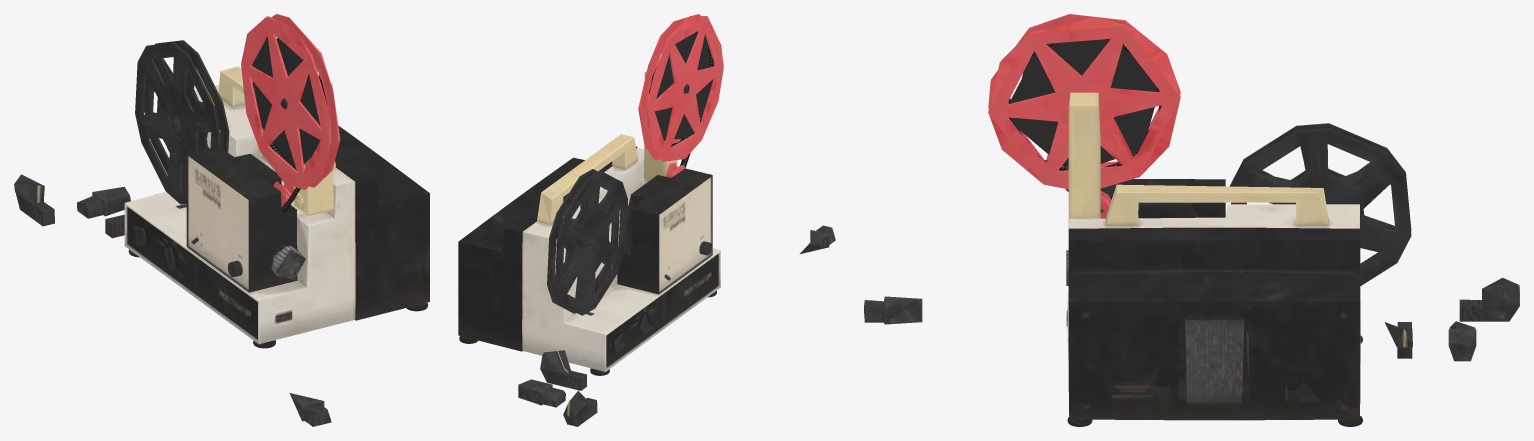
3 renders of one model, left to right at view 1: azimuth 30°, elevation 25°; view 2: azimuth 150°, elevation 25°; view 3: azimuth 270°, elevation 25°, orthographic. The views are drawn at different scales.
Parts seen in each view (by area): view 1: filmstrip_projector_8mm_takeup_holder; view 2: filmstrip_projector_8mm_takeup_holder; view 3: filmstrip_projector_8mm_takeup_holder.
Part boxes in pixels (x1=…): filmstrip_projector_8mm_takeup_holder: x1=14, y1=14, x2=429, y2=426; filmstrip_projector_8mm_takeup_holder: x1=458, y1=14, x2=835, y2=426; filmstrip_projector_8mm_takeup_holder: x1=864, y1=14, x2=1519, y2=426.
Bounding box in the file's own units: 0.2523 × 0.3448 × 0.6015.
Materials: 2 (2 with a texture image).
